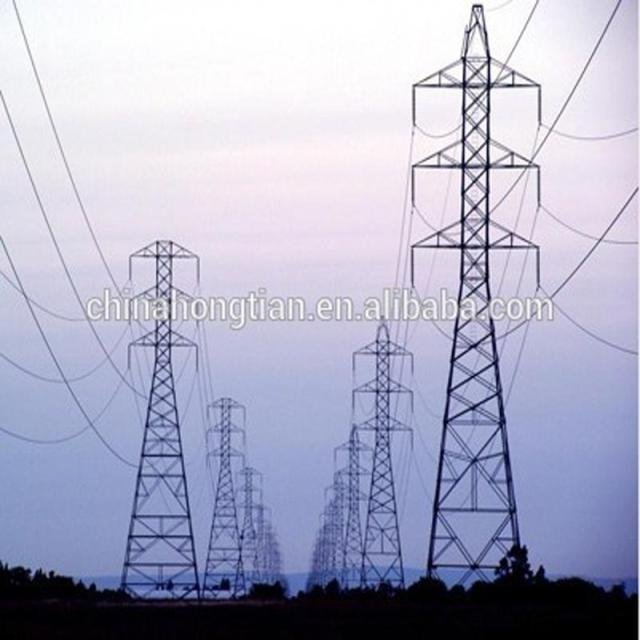non-critical vegetation: (396, 4, 554, 582), (120, 232, 228, 600), (348, 318, 420, 584), (202, 387, 244, 595)
